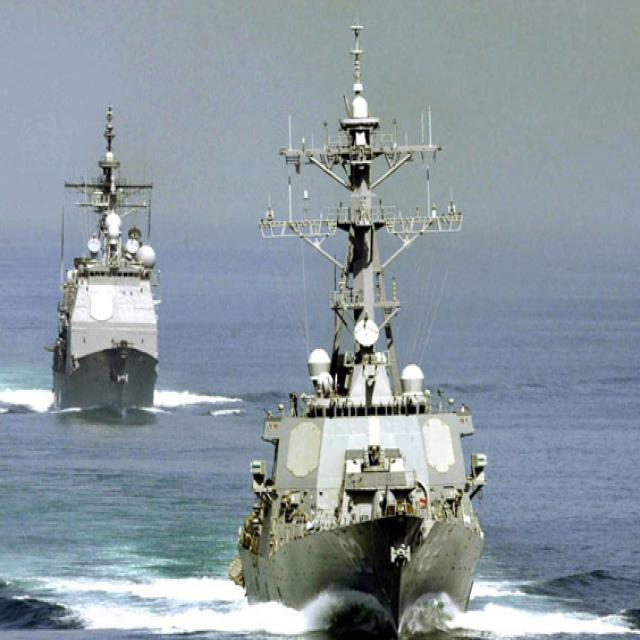navalvessels: (238, 20, 492, 622), (41, 107, 168, 420)
